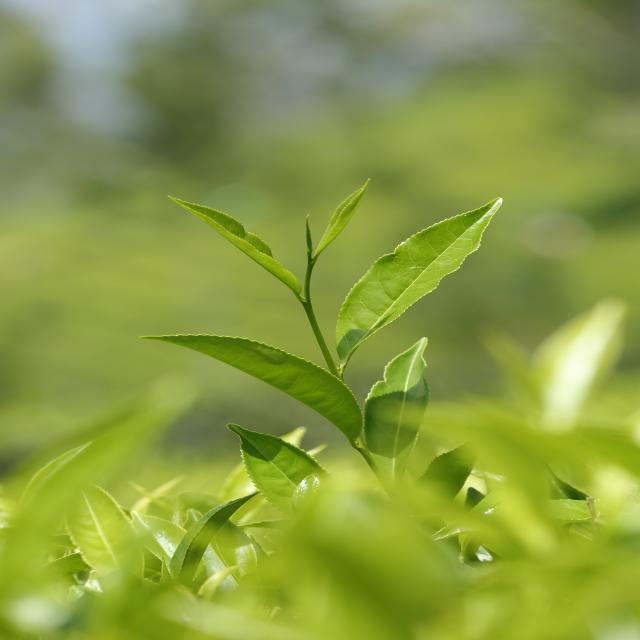Stem: (303, 297, 312, 311)
